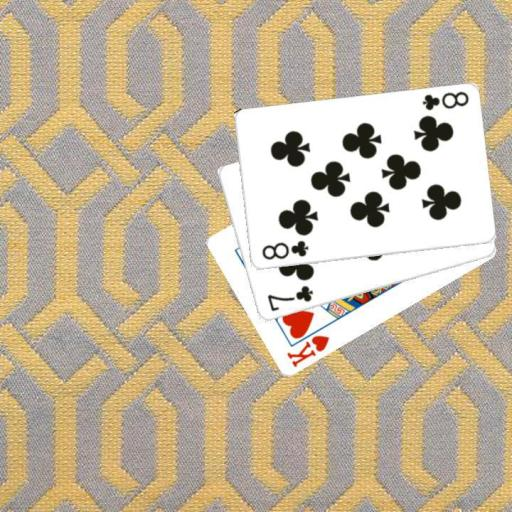7C: (264, 282, 314, 314)
8C: (258, 238, 310, 262), (419, 89, 470, 113)
KH: (283, 332, 331, 369)
